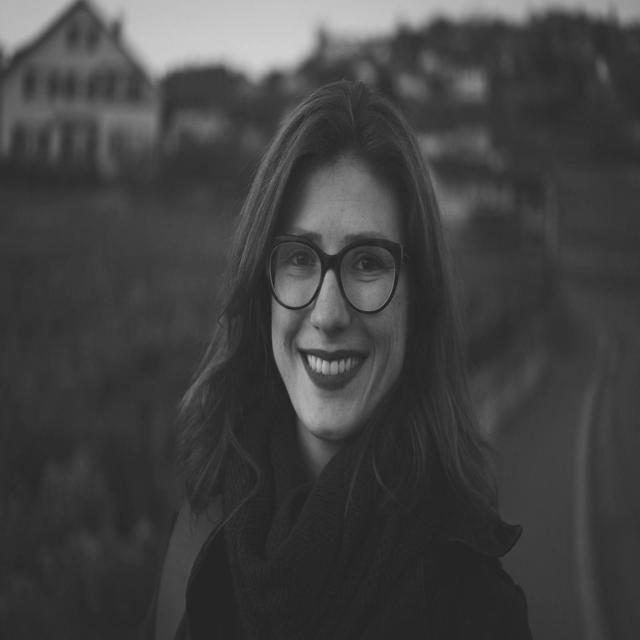Happiness: (260, 140, 417, 447)
